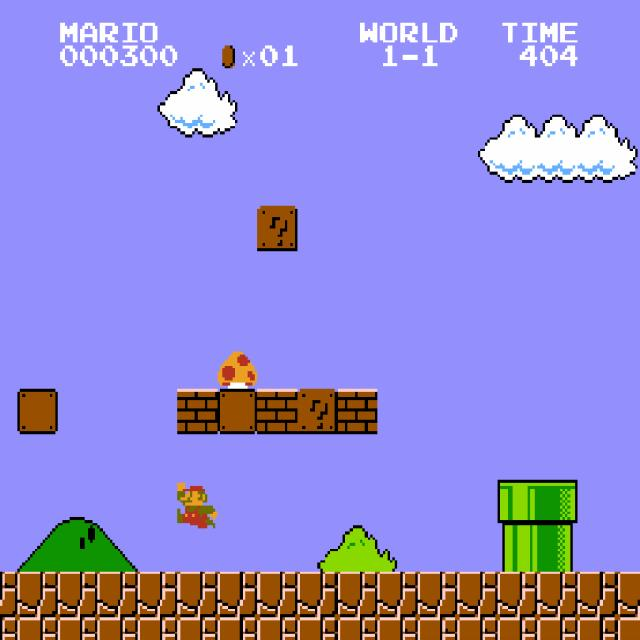brick_block: (177, 389, 218, 434), (257, 389, 298, 434), (337, 389, 378, 434)
empty_block: (17, 389, 58, 434), (217, 389, 258, 434)
little_mario: (175, 480, 217, 528)
mushroom: (215, 349, 257, 391)
mystery_block: (257, 206, 298, 251), (297, 389, 338, 434)
pipe: (497, 526, 538, 571), (537, 526, 578, 571)
pipe_head: (497, 480, 538, 526), (537, 480, 578, 526)
undestructible_block: (17, 572, 58, 617), (57, 572, 98, 617), (97, 572, 138, 617), (137, 572, 178, 617), (177, 572, 218, 617), (217, 572, 258, 617), (257, 572, 298, 617), (297, 572, 338, 617), (337, 572, 378, 617), (377, 572, 418, 617), (417, 572, 458, 617), (457, 572, 498, 617), (497, 572, 538, 617), (537, 572, 578, 617), (577, 572, 618, 617), (618, 572, 640, 617), (17, 617, 58, 640), (57, 617, 98, 640), (97, 617, 138, 640), (137, 617, 178, 640), (177, 617, 218, 640), (217, 617, 258, 640), (257, 617, 298, 640), (297, 617, 338, 640), (337, 617, 378, 640), (377, 617, 418, 640), (417, 617, 458, 640), (457, 617, 498, 640), (497, 617, 538, 640), (537, 617, 578, 640), (577, 617, 618, 640), (0, 571, 17, 617), (618, 617, 640, 640), (0, 617, 17, 639)
